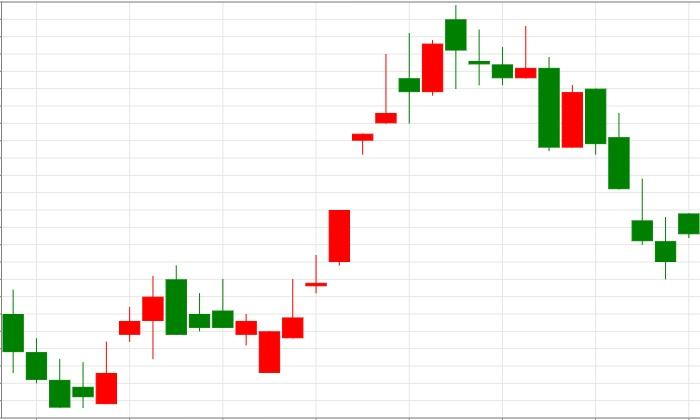hanging_man_fall: (259, 4, 466, 372)
inverse_hammer_rise: (515, 27, 652, 244)
